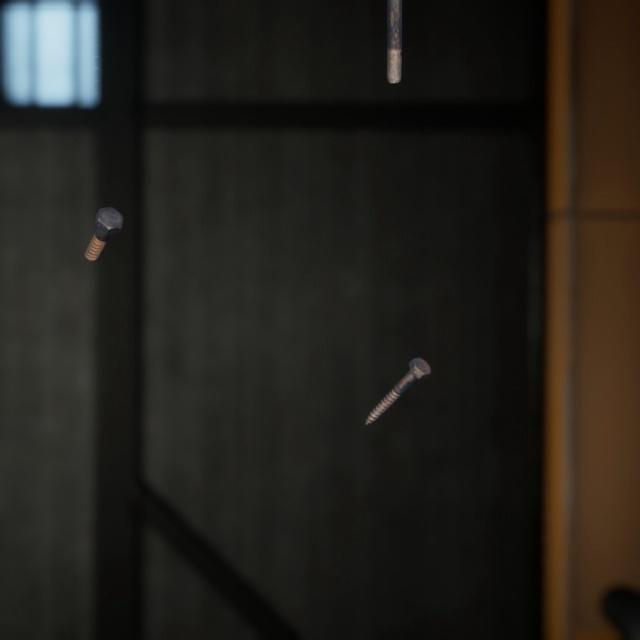bolt: (361, 334, 435, 410), (79, 187, 128, 250)
